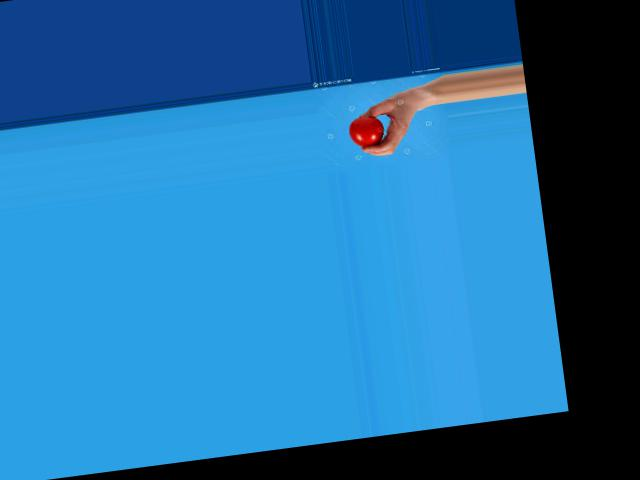tomato: (348, 114, 385, 148)
